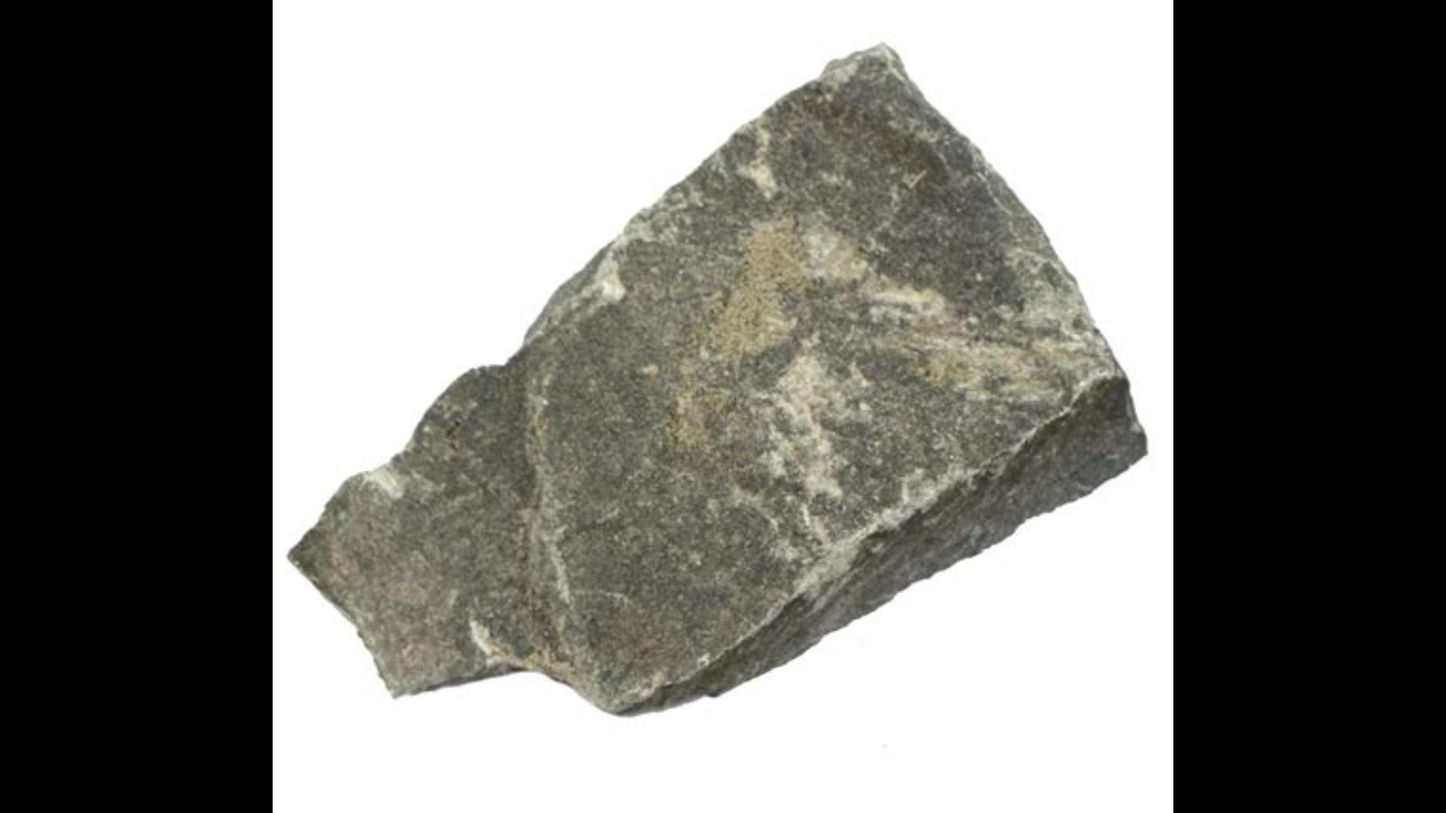rock: (292, 49, 1143, 710)
